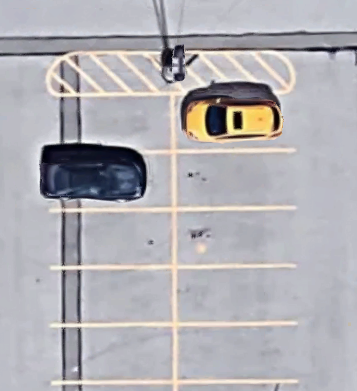Occupied: (48, 151, 174, 209), (172, 94, 296, 151)
Vacant: (51, 324, 176, 383), (48, 94, 172, 152), (49, 210, 175, 267), (176, 323, 297, 382), (51, 266, 174, 324), (176, 208, 297, 266), (174, 266, 297, 323), (173, 152, 296, 208)
